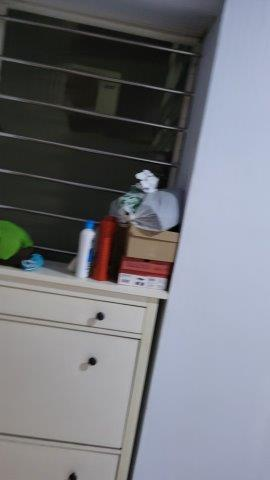kertas: (135, 169, 157, 190)
plastik: (110, 192, 195, 227)
